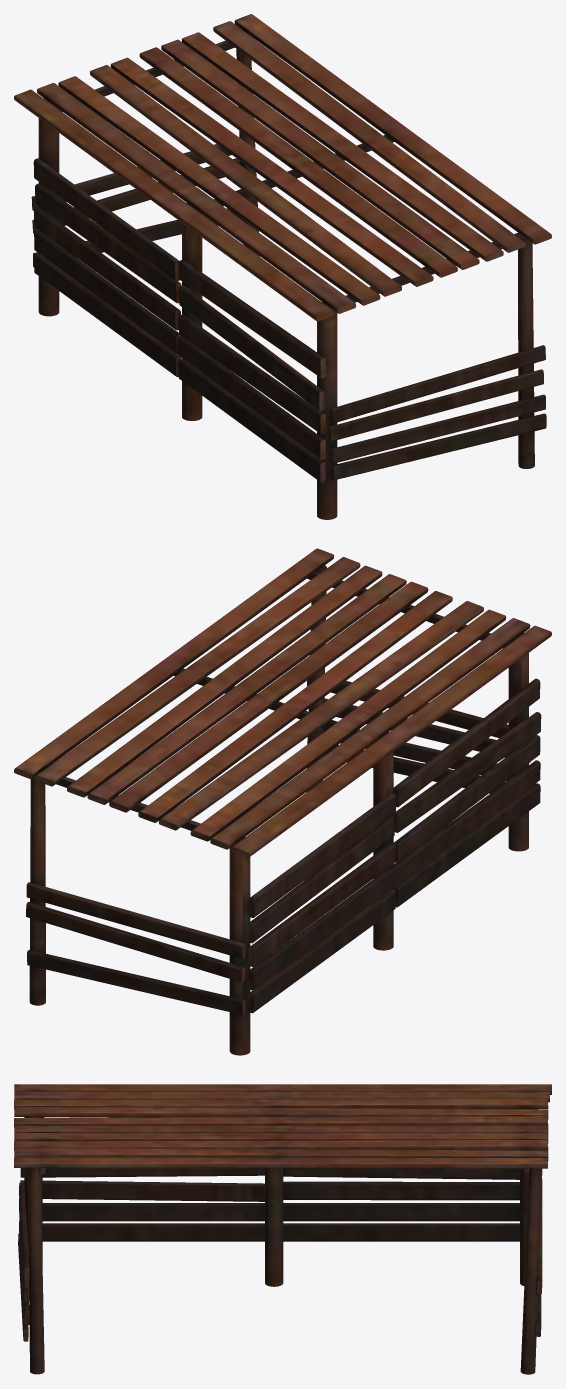
Rendered from cowshed.fbx.
The picture shows the model from 3 angles, top to bottom: view 1: azimuth 30°, elevation 25°; view 2: azimuth 150°, elevation 25°; view 3: azimuth 270°, elevation 25°; orthographic projection. The views are drawn at different scales.
Parts seen in each view (by area): view 1: roof.014; view 2: roof.014; view 3: roof.014.
Part boxes in pixels (left/top/right/bottom): roof.014: left=14, top=14, right=551, bottom=519; roof.014: left=14, top=548, right=551, bottom=1055; roof.014: left=14, top=1084, right=551, bottom=1374.
Bounding box in the file's own units: 1691 × 1630 × 3725.
